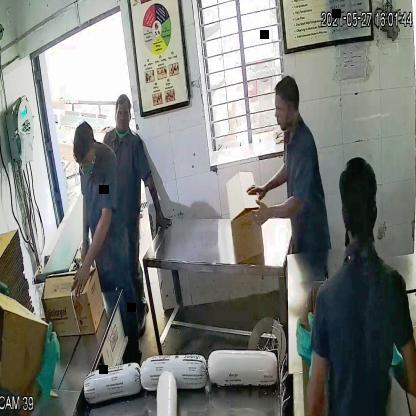no_goggles: (271, 100, 296, 121), (112, 104, 132, 124)
